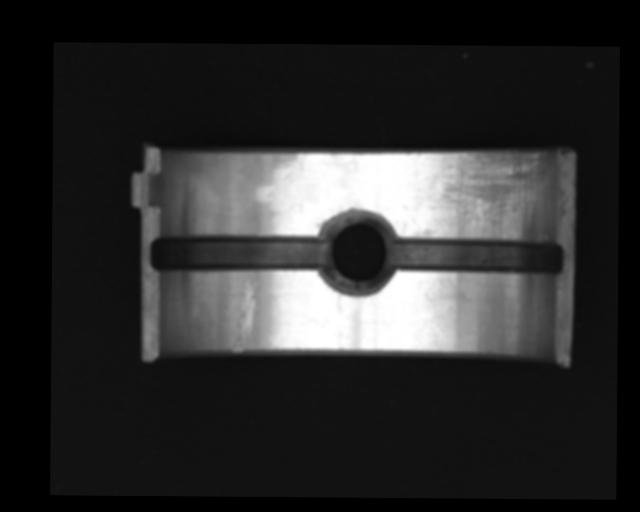gap: (150, 233, 326, 277), (394, 236, 565, 276)
hole: (317, 210, 397, 293)
nick: (231, 278, 258, 353)
scratch: (429, 147, 550, 239)
